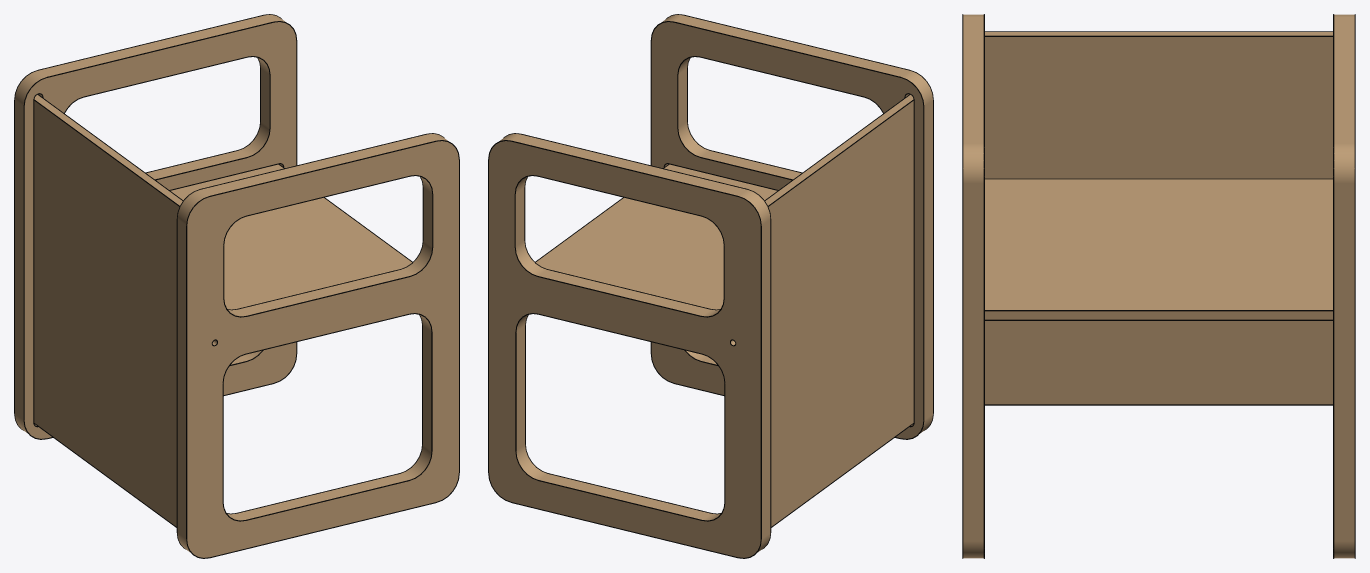
File: modelo.glb
The picture shows the model from 3 angles, left to right: view 1: azimuth 30°, elevation 25°; view 2: azimuth 150°, elevation 25°; view 3: azimuth 270°, elevation 25°; orthographic projection. The views are drawn at different scales.
Parts seen in each view (by area): view 1: Cuerpo42, Cuerpo43, Cuerpo45, Cuerpo44, Cuerpo42_Bordes, Cuerpo45_Bordes, Cuerpo43_Bordes; view 2: Cuerpo45, Cuerpo43, Cuerpo42, Cuerpo44, Cuerpo45_Bordes, Cuerpo42_Bordes, Cuerpo43_Bordes; view 3: Cuerpo43, Cuerpo44, Cuerpo42, Cuerpo45, Cuerpo42_Bordes, Cuerpo45_Bordes, Cuerpo44_Bordes, Cuerpo43_Bordes.
Boxes of the visible parts, x1,y1,x2,y2 form: Cuerpo42: (177,133,458,557); Cuerpo43: (34,95,182,526); Cuerpo45: (15,14,296,438); Cuerpo44: (170,164,411,309); Cuerpo42_Bordes: (176,133,459,558); Cuerpo45_Bordes: (14,14,297,439); Cuerpo43_Bordes: (33,94,182,527); Cuerpo45: (489,133,770,557); Cuerpo43: (765,95,913,526); Cuerpo42: (651,14,932,438); Cuerpo44: (536,164,777,309); Cuerpo45_Bordes: (488,133,771,558); Cuerpo42_Bordes: (650,14,933,439); Cuerpo43_Bordes: (765,94,914,527); Cuerpo43: (985,32,1332,404); Cuerpo44: (985,179,1332,319); Cuerpo42: (963,14,983,558); Cuerpo45: (1334,14,1354,558); Cuerpo42_Bordes: (962,14,984,558); Cuerpo45_Bordes: (1333,14,1355,558); Cuerpo44_Bordes: (985,178,1332,320); Cuerpo43_Bordes: (985,31,1332,405).
Size of the model in its own units: 0.3011 by 0.3811 by 0.3291.
